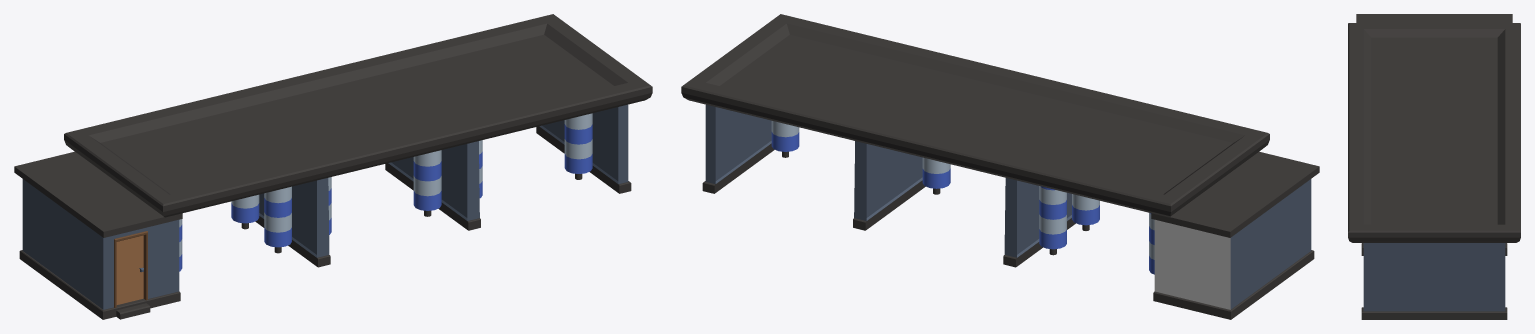
Rendered from LavaJato.G.fbx.
3 views of the same model, side by side, from view 1: azimuth 30°, elevation 25°; view 2: azimuth 150°, elevation 25°; view 3: azimuth 270°, elevation 25° (orthographic). The views are drawn at different scales.
Parts seen in each view (by area): view 1: LavaJato.G; view 2: LavaJato.G; view 3: LavaJato.G.
Part boxes in pixels (x1,y1,x2,y2): LavaJato.G: (14, 14, 652, 319); LavaJato.G: (681, 14, 1319, 319); LavaJato.G: (1348, 14, 1520, 319).
Bounding box in the file's own units: 3604 × 686 × 1134.
